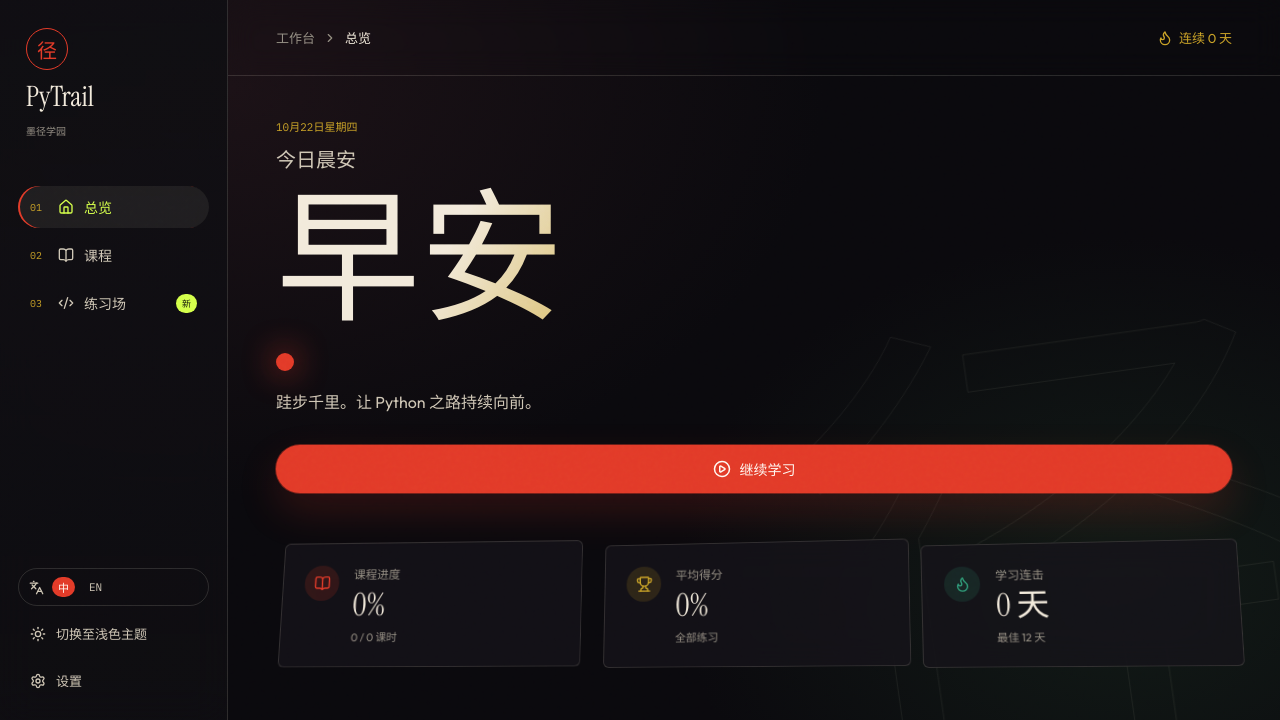
Test: on-demand course and lesson workflow › persists a manual theme choice from the sidebar control
Click the button "切换至浅色主题" at (114, 634), box [18,614,209,653]
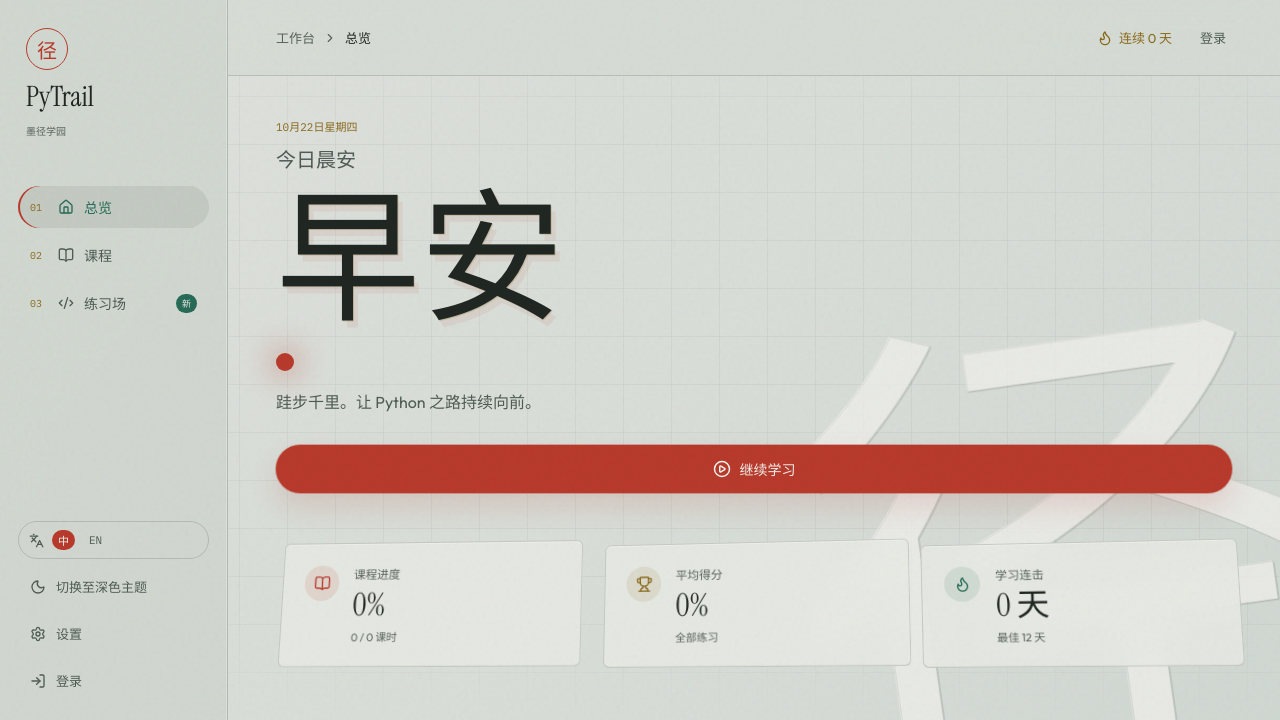
Expected: the button "切换至深色主题" is shown, [18,567,209,606]
